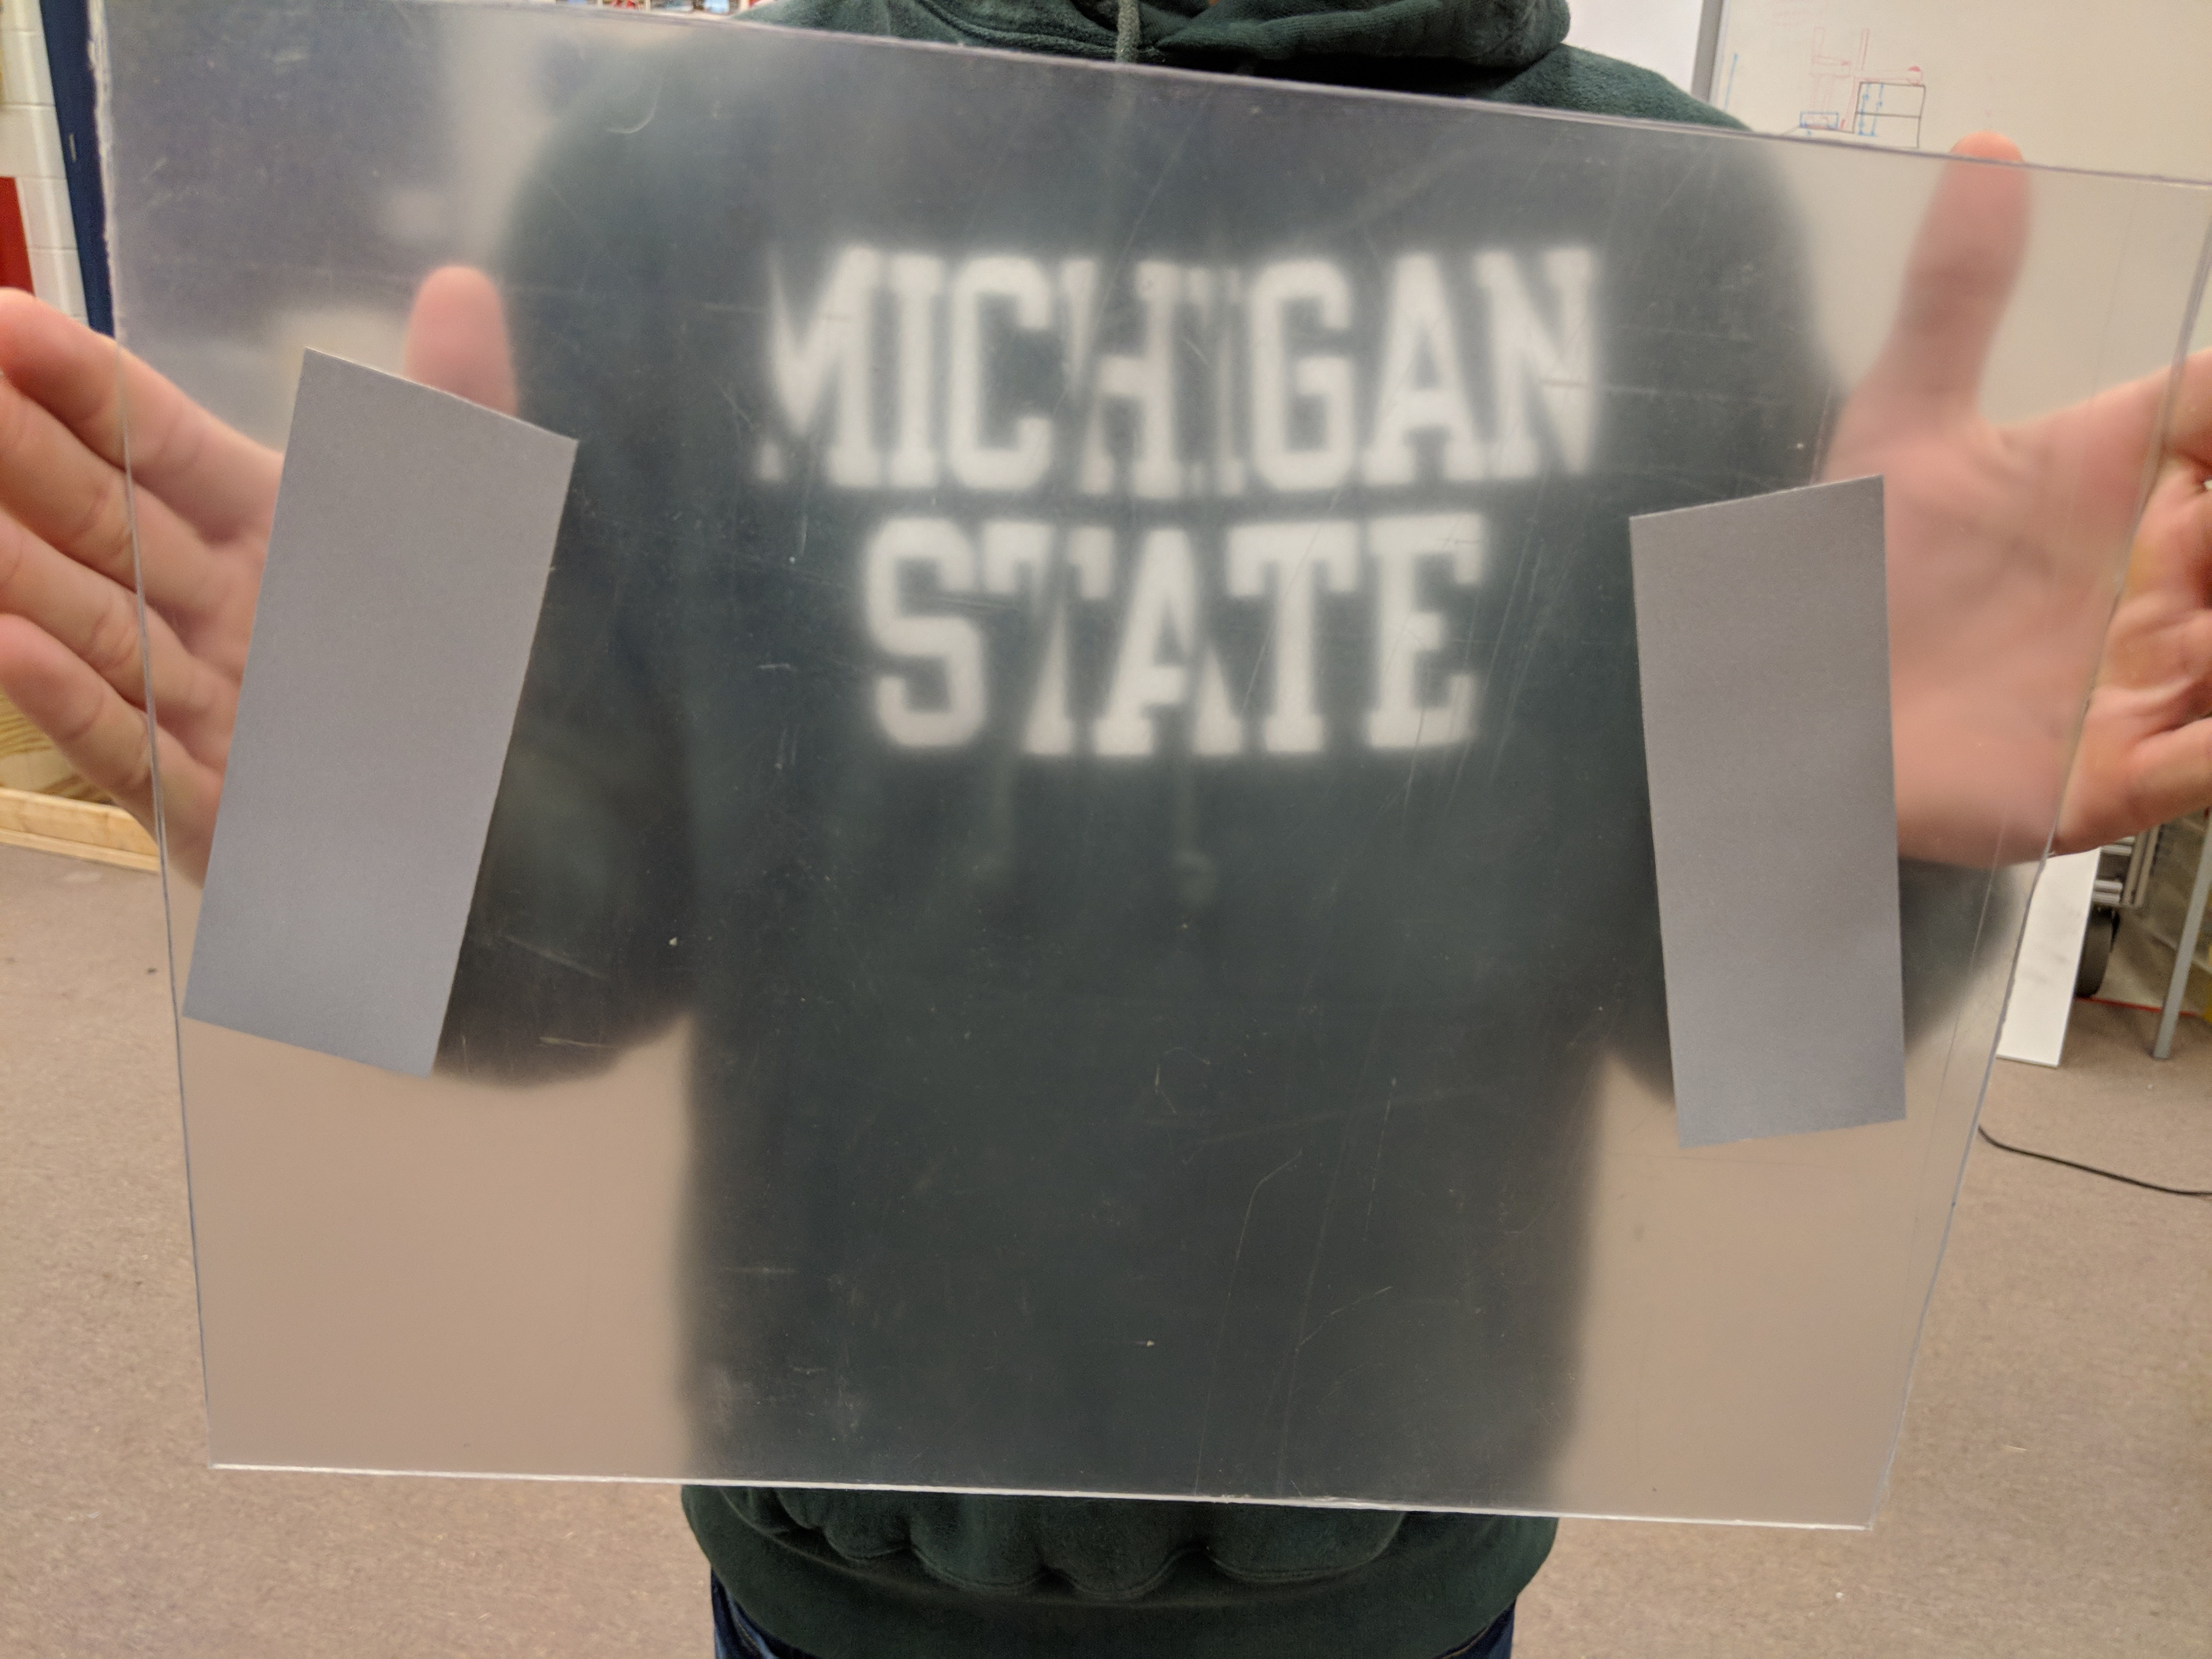vision_target: (169, 331, 1930, 1157)
